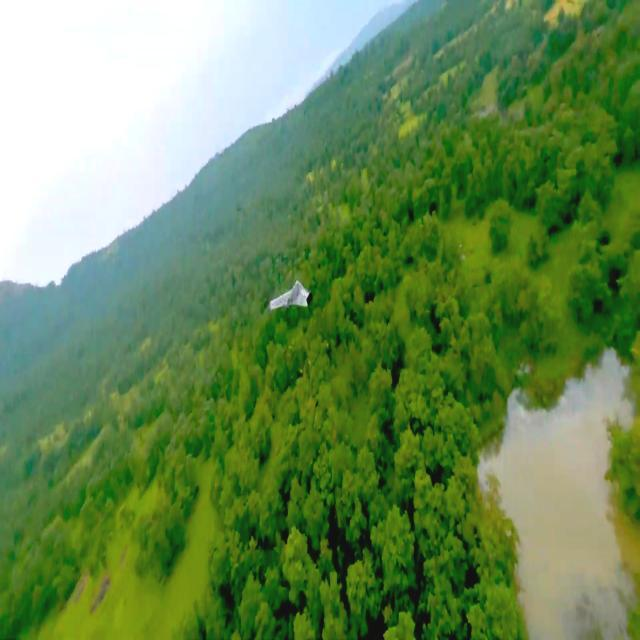iha: (266, 275, 318, 323)
